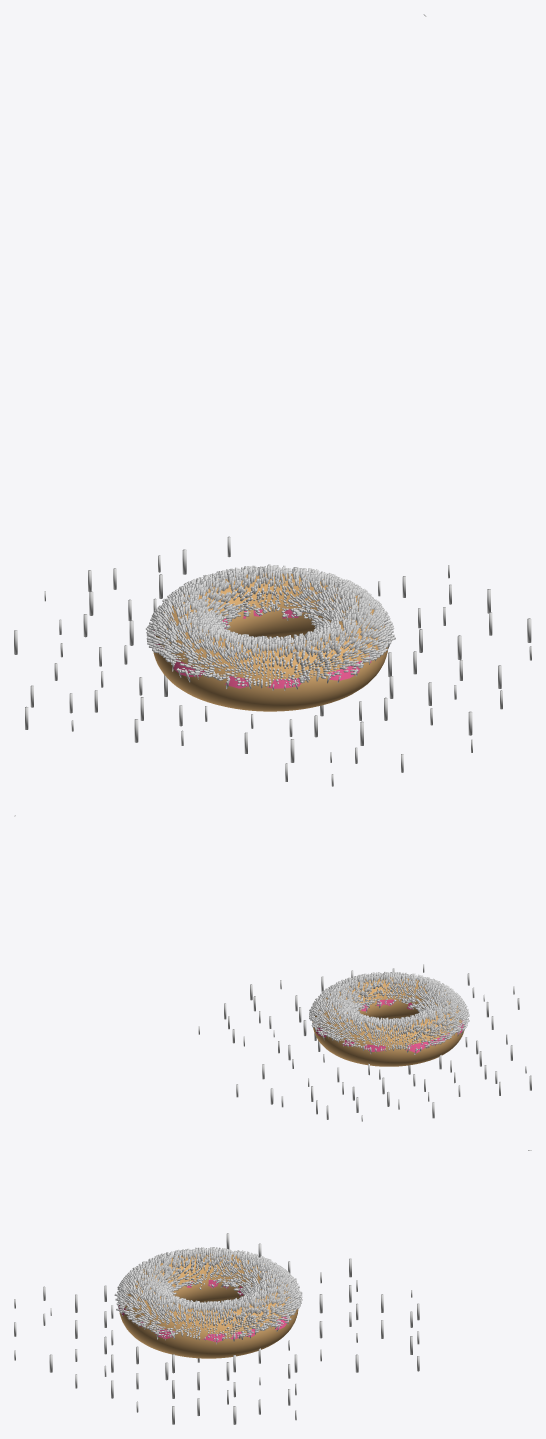
Rendered from Donut-test.glb.
3 views of the same model, one above another, from view 1: azimuth 30°, elevation 25°; view 2: azimuth 150°, elevation 25°; view 3: azimuth 270°, elevation 25° (orthographic). The views are drawn at different scales.
Visible parts, largest first — view 1: Donut, Icing; view 2: Donut, Icing; view 3: Donut, Icing.
Boxes of the visible parts, x1,y1,x2,y2 form: Donut: (153, 573, 388, 711); Icing: (153, 609, 371, 688); Donut: (312, 977, 464, 1066); Icing: (316, 999, 464, 1053); Donut: (119, 1253, 298, 1358); Icing: (118, 1279, 287, 1342).
Size of what is drawn, in the model's own units: 8.19 by 5.54 by 8.06.
